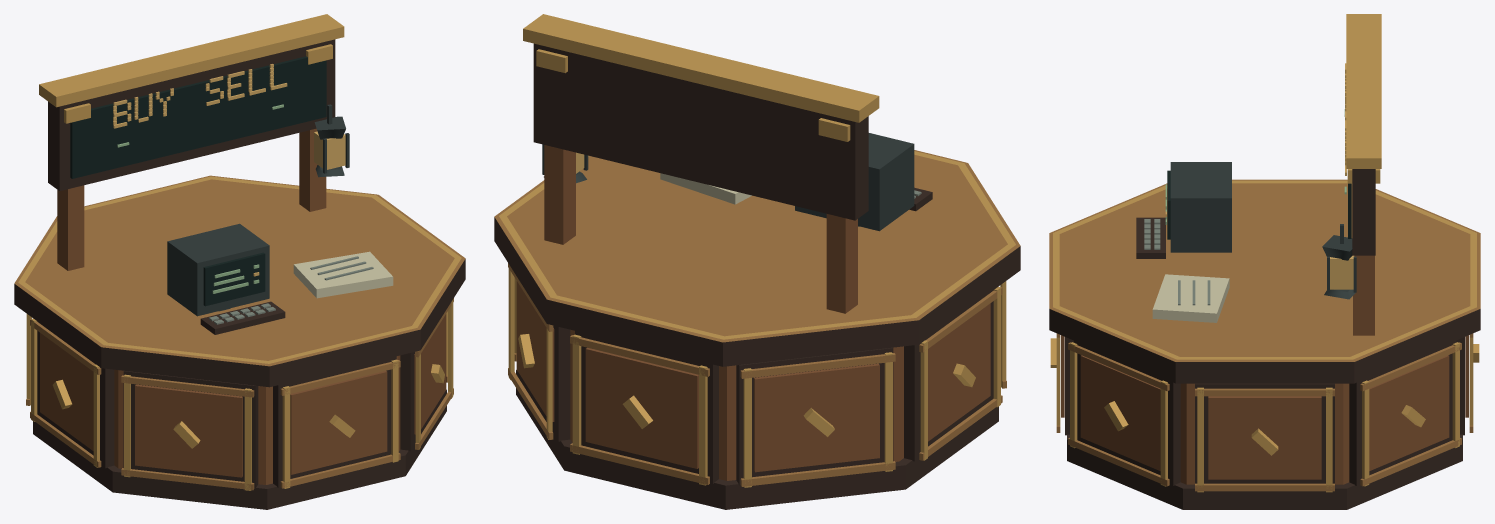
The model's file is side-post-v1.glb.
The picture shows the model from 3 angles, left to right: view 1: azimuth 30°, elevation 25°; view 2: azimuth 150°, elevation 25°; view 3: azimuth 270°, elevation 25°; orthographic projection. The views are drawn at different scales.
Visible parts, largest first — view 1: side-post; view 2: side-post; view 3: side-post.
Boxes of the visible parts, x1=… form: side-post: x1=14, y1=14, x2=465, y2=509; side-post: x1=494, y1=14, x2=1020, y2=509; side-post: x1=1049, y1=14, x2=1480, y2=509.
Size of the model in its own units: 2.92 by 2.54 by 2.92.
